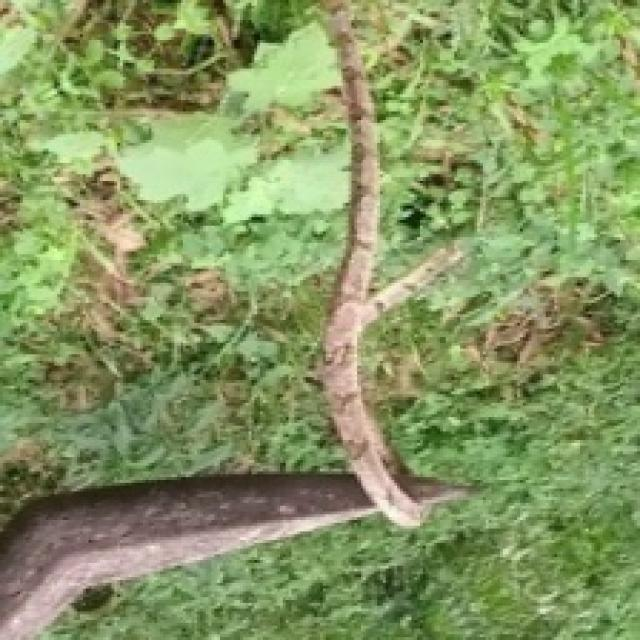dog-toothed cat snake: (322, 0, 465, 526)
